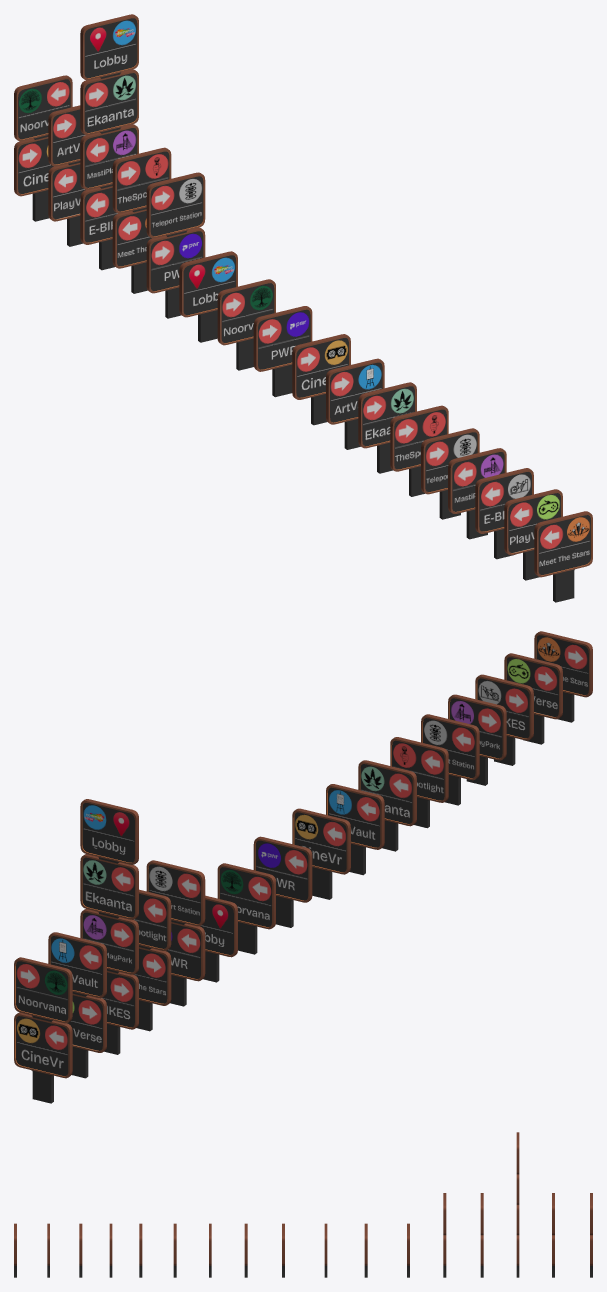
File: Street Sings 1 (1).fbx
3 renders of one model, top to bottom at view 1: azimuth 30°, elevation 25°; view 2: azimuth 150°, elevation 25°; view 3: azimuth 270°, elevation 25°, orthographic. The views are drawn at different scales.
Visible parts, largest first — view 1: Plane026, Plane032, Plane028, Plane025, Plane027, Plane005, Plane022, Plane024, Plane023, Plane021, Plane020, Plane019 (+5 smaller); view 2: Plane026, Plane028, Plane027, Plane032, Plane025, Plane021, Plane023, Plane022, Plane020, Plane019, Plane018, Plane017 (+5 smaller); view 3: Plane026, Plane025, Plane032, Plane027, Plane028, Plane015, Plane017, Plane018, Plane020, Plane023, Plane016, Plane022.
Part boxes in pixels (x1=…): Plane026: x1=80, y1=14, x2=138, y2=270; Plane032: x1=146, y1=172, x2=205, y2=318; Plane028: x1=14, y1=75, x2=72, y2=221; Plane025: x1=112, y1=147, x2=171, y2=293; Plane027: x1=48, y1=105, x2=85, y2=246; Plane005: x1=534, y1=511, x2=592, y2=602; Plane022: x1=253, y1=306, x2=312, y2=397; Plane024: x1=179, y1=251, x2=237, y2=342; Plane023: x1=217, y1=279, x2=275, y2=370; Plane021: x1=292, y1=334, x2=350, y2=425; Plane020: x1=326, y1=358, x2=384, y2=449; Plane019: x1=358, y1=382, x2=416, y2=473; Plane026: x1=80, y1=799, x2=138, y2=1054; Plane028: x1=14, y1=957, x2=72, y2=1103; Plane027: x1=48, y1=932, x2=106, y2=1078; Plane032: x1=146, y1=860, x2=205, y2=1006; Plane025: x1=133, y1=889, x2=171, y2=1031; Plane021: x1=292, y1=808, x2=350, y2=899; Plane023: x1=217, y1=863, x2=275, y2=954; Plane022: x1=253, y1=836, x2=312, y2=927; Plane020: x1=326, y1=784, x2=384, y2=875; Plane019: x1=358, y1=760, x2=416, y2=851; Plane018: x1=390, y1=737, x2=448, y2=828; Plane017: x1=421, y1=714, x2=479, y2=805; Plane026: x1=516, y1=1132, x2=519, y2=1277; Plane025: x1=480, y1=1193, x2=483, y2=1277; Plane032: x1=443, y1=1193, x2=446, y2=1277; Plane027: x1=552, y1=1193, x2=554, y2=1277; Plane028: x1=590, y1=1193, x2=592, y2=1277; Plane015: x1=79, y1=1223, x2=82, y2=1277; Plane017: x1=139, y1=1223, x2=142, y2=1277; Plane018: x1=173, y1=1223, x2=176, y2=1277; Plane020: x1=244, y1=1223, x2=247, y2=1277; Plane023: x1=364, y1=1223, x2=367, y2=1277; Plane016: x1=109, y1=1223, x2=112, y2=1277; Plane022: x1=324, y1=1223, x2=327, y2=1277.
Bounding box in the file's own units: 247 × 1040 × 4003.
